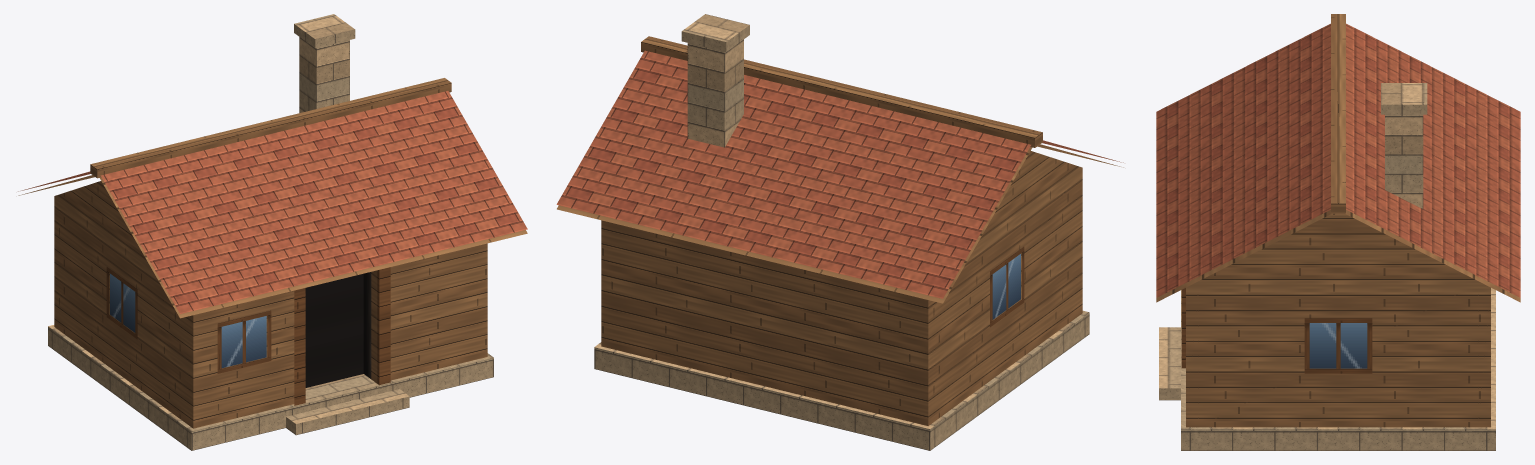
Rendered from hut.glb.
3 renders of one model, left to right at view 1: azimuth 30°, elevation 25°; view 2: azimuth 150°, elevation 25°; view 3: azimuth 270°, elevation 25°, orthographic. The views are drawn at different scales.
Parts seen in each view (by area): view 1: hut; view 2: hut; view 3: hut.
Boxes of the visible parts, box(x1,y1,x2,y2) form: hut: box(18, 14, 527, 450); hut: box(556, 14, 1123, 450); hut: box(1156, 14, 1520, 450).
Size of the model in its own units: 5.3 by 4.18 by 4.3.
6 materials, 6 textured.
